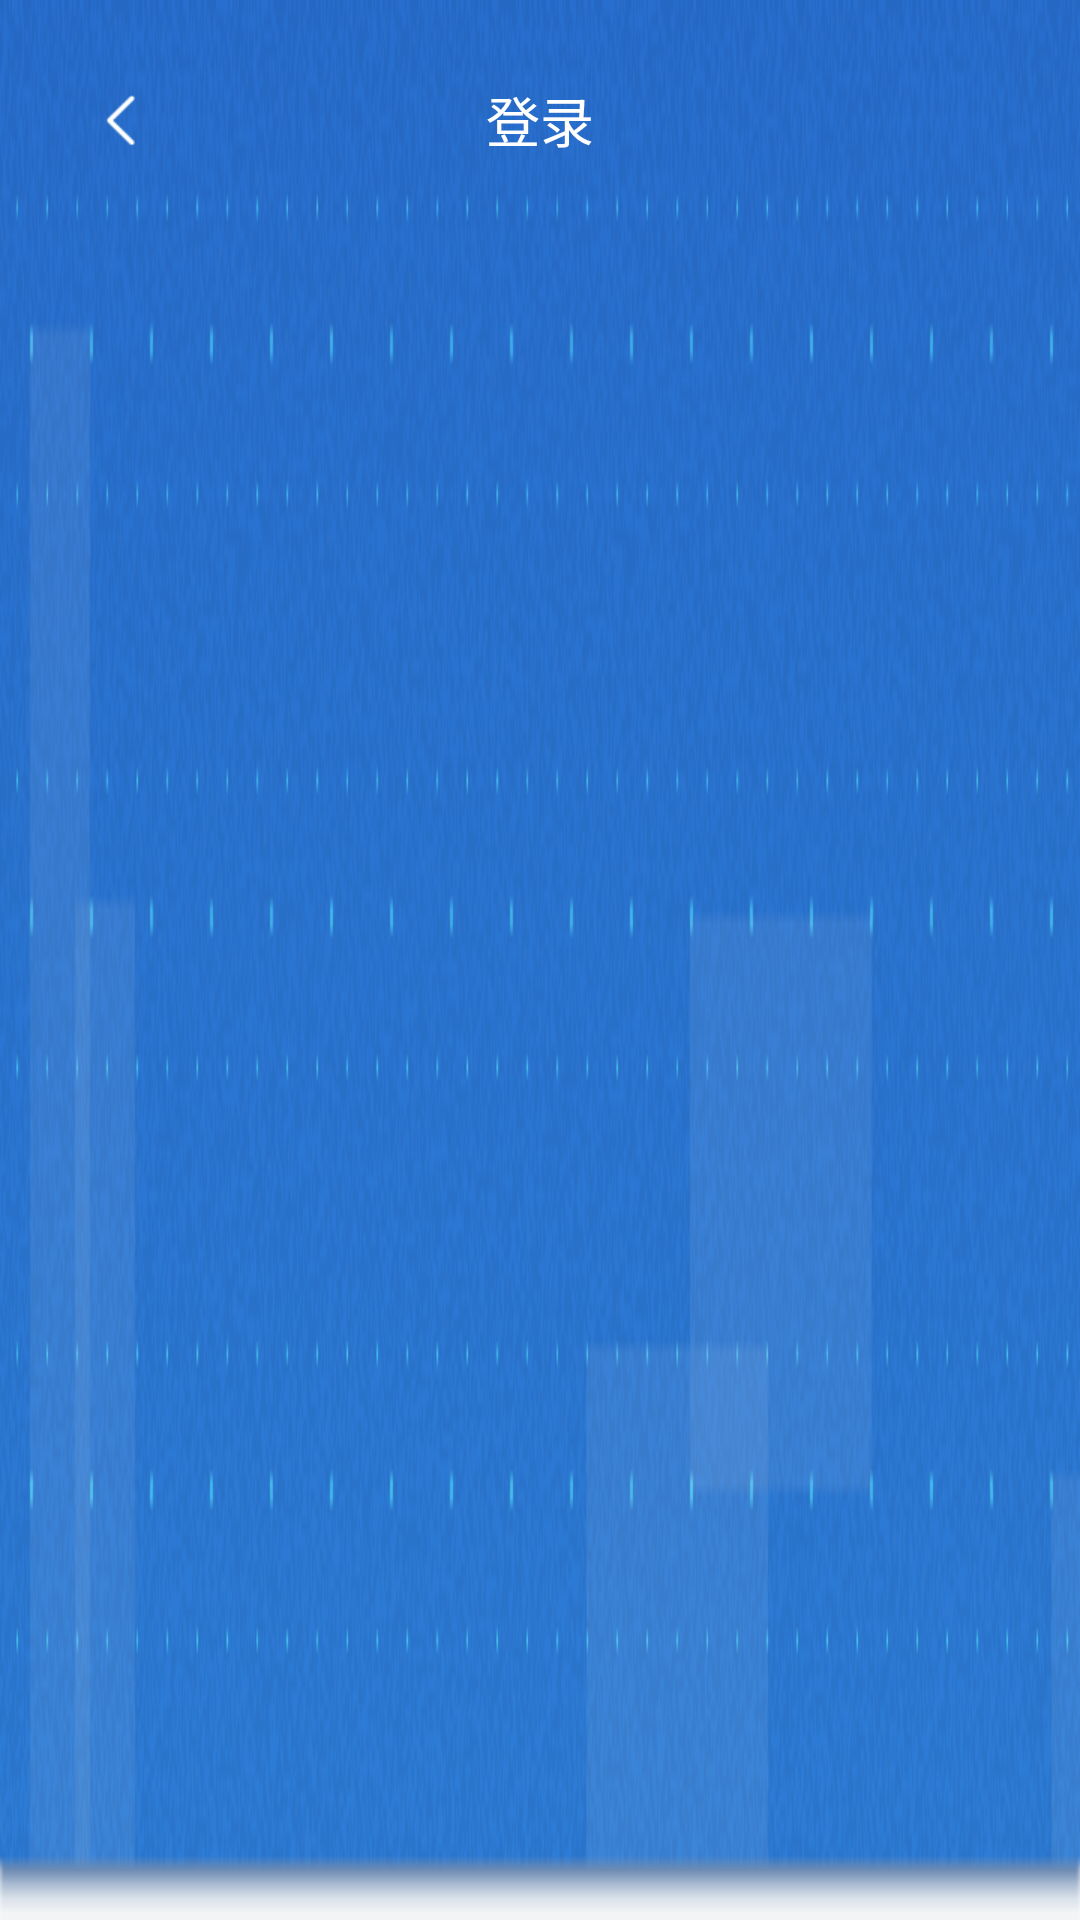

Where to tap for icons on this 1080x1920 app screen, as (x=x, y=y):
left arrow: (x=120, y=120)
